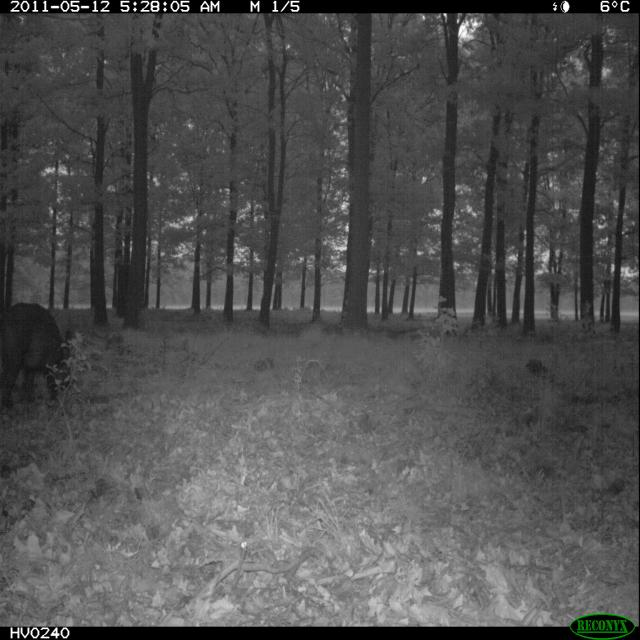boar: (0, 294, 91, 415)
